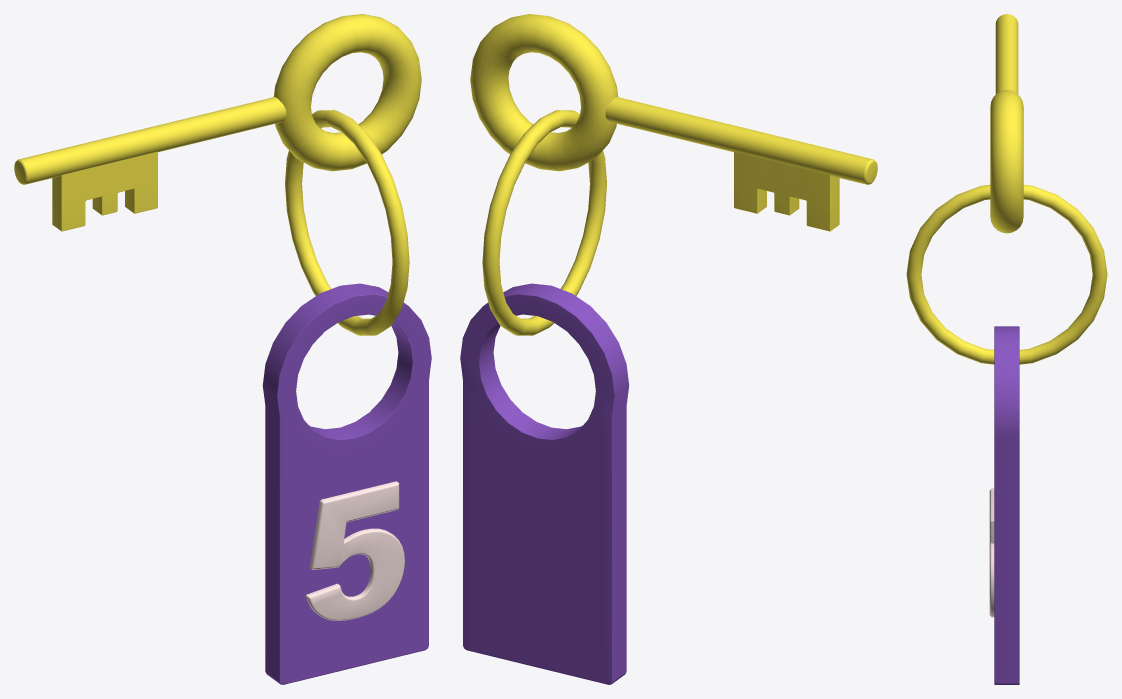
Rendered from Public_7_Key_Number_5.glb.
3 views of the same model, side by side, from view 1: azimuth 30°, elevation 25°; view 2: azimuth 150°, elevation 25°; view 3: azimuth 270°, elevation 25° (orthographic). The views are drawn at different scales.
Visible parts, largest first — view 1: Public_7_Key_Number_5; view 2: Public_7_Key_Number_5; view 3: Public_7_Key_Number_5.
Part boxes in pixels (x1=…): Public_7_Key_Number_5: x1=14, y1=14, x2=431, y2=684; Public_7_Key_Number_5: x1=460, y1=14, x2=877, y2=684; Public_7_Key_Number_5: x1=906, y1=14, x2=1107, y2=684.
Bounding box in the file's own units: 1.61 × 2.45 × 0.8011.
1 material, 1 textured.
